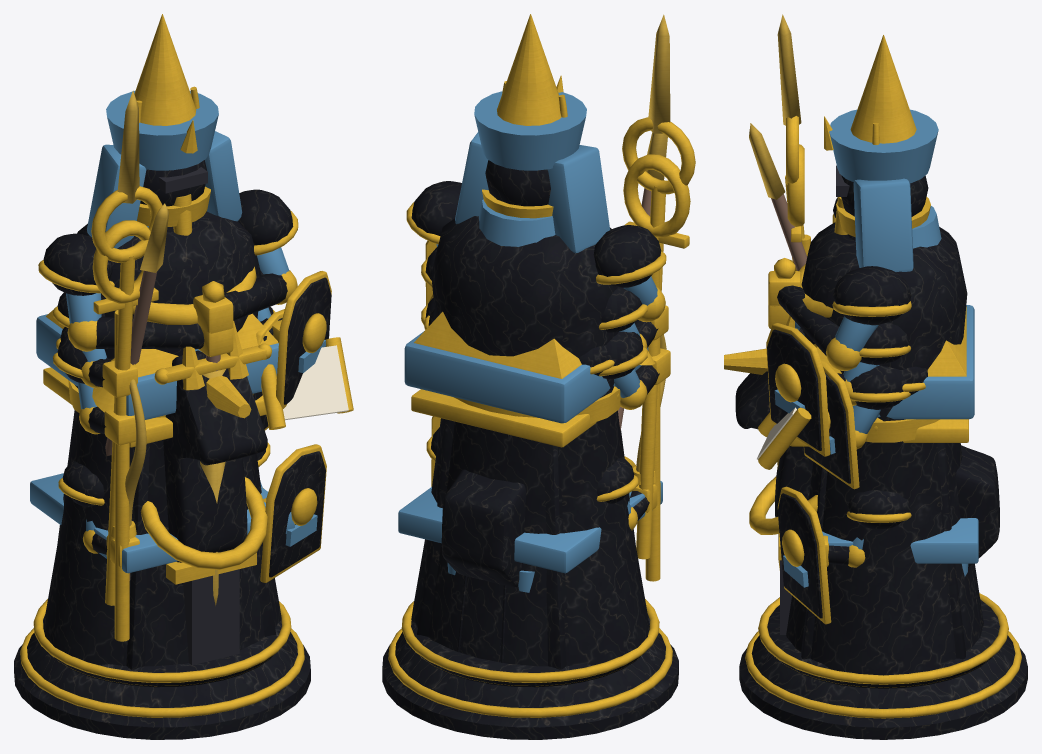
Rendered from pharaoh_black.glb.
3 renders of one model, left to right at view 1: azimuth 30°, elevation 25°; view 2: azimuth 150°, elevation 25°; view 3: azimuth 270°, elevation 25°, orthographic. The views are drawn at different scales.
Parts seen in each view (by area): view 1: Mesh_Body_k, Plinth_k, Mesh_Body_n, Mesh_Head_k, Mesh_Body_r, Mesh_WeaponArm_k, Mesh_WeaponArm_q, Mesh_WeaponArm_b, Mesh_ShieldArm_p, Mesh_ShieldArm_k, Mesh_WeaponArm_r, Mesh_ShieldArm_q (+4 smaller); view 2: Mesh_Body_k, Plinth_k, Mesh_Head_k, Mesh_Body_r, Mesh_WeaponArm_r, Mesh_WeaponArm_q, Mesh_Body_n, Mesh_WeaponArm_b, Mesh_WeaponArm_k, Mesh_Head_q, Mesh_WeaponArm_p, Mesh_ShieldArm_k (+2 smaller); view 3: Mesh_Body_k, Plinth_k, Mesh_Head_k, Mesh_ShieldArm_p, Mesh_Body_n, Mesh_ShieldArm_k, Mesh_ShieldArm_q, Mesh_Body_r, Mesh_WeaponArm_r, Mesh_ShieldArm_b, Mesh_ShieldArm_n, Mesh_WeaponArm_q (+4 smaller).
Boxes of the visible parts, bbox=[...] form: Mesh_Body_k: bbox=[43, 211, 281, 666]; Plinth_k: bbox=[14, 599, 310, 739]; Mesh_Body_n: bbox=[140, 321, 267, 569]; Mesh_Head_k: bbox=[87, 14, 242, 248]; Mesh_Body_r: bbox=[30, 367, 294, 669]; Mesh_WeaponArm_k: bbox=[38, 233, 271, 605]; Mesh_WeaponArm_q: bbox=[53, 90, 162, 605]; Mesh_WeaponArm_b: bbox=[53, 220, 158, 641]; Mesh_ShieldArm_p: bbox=[257, 442, 326, 582]; Mesh_ShieldArm_k: bbox=[193, 189, 298, 333]; Mesh_WeaponArm_r: bbox=[36, 310, 278, 419]; Mesh_ShieldArm_q: bbox=[257, 270, 331, 408]; Mesh_Body_k: bbox=[411, 216, 649, 666]; Plinth_k: bbox=[382, 599, 678, 739]; Mesh_Head_k: bbox=[455, 14, 609, 253]; Mesh_Body_r: bbox=[398, 389, 662, 669]; Mesh_WeaponArm_r: bbox=[404, 311, 648, 423]; Mesh_WeaponArm_q: bbox=[599, 14, 695, 559]; Mesh_Body_n: bbox=[441, 456, 635, 592]; Mesh_WeaponArm_b: bbox=[599, 154, 690, 581]; Mesh_WeaponArm_k: bbox=[593, 225, 666, 322]; Mesh_Head_q: bbox=[478, 81, 567, 246]; Mesh_WeaponArm_p: bbox=[596, 334, 666, 530]; Mesh_ShieldArm_k: bbox=[406, 181, 461, 246]; Mesh_Body_k: bbox=[786, 222, 983, 675]; Plinth_k: bbox=[739, 593, 1027, 739]; Mesh_Head_k: bbox=[824, 35, 938, 271]; Mesh_ShieldArm_p: bbox=[777, 486, 911, 624]; Mesh_Body_n: bbox=[735, 316, 999, 576]; Mesh_ShieldArm_k: bbox=[768, 266, 911, 370]; Mesh_ShieldArm_q: bbox=[766, 322, 910, 456]; Mesh_Body_r: bbox=[779, 419, 978, 659]; Mesh_WeaponArm_r: bbox=[724, 305, 974, 419]; Mesh_ShieldArm_b: bbox=[757, 365, 910, 469]; Mesh_ShieldArm_n: bbox=[804, 360, 927, 489]; Mesh_WeaponArm_q: bbox=[777, 14, 804, 270].
Size of the model in its own units: 0.7841 by 1.87 by 0.8.
7 materials, 3 textured.
